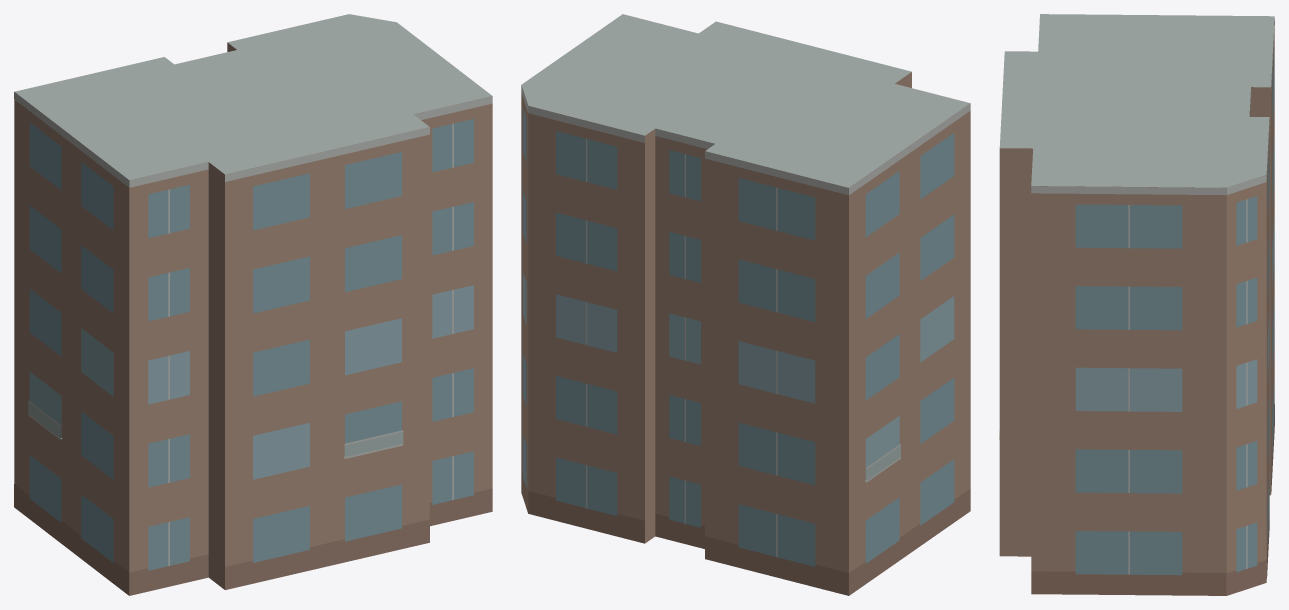
File: survey-upis-32736431.glb
The picture shows the model from 3 angles, left to right: view 1: azimuth 30°, elevation 25°; view 2: azimuth 150°, elevation 25°; view 3: azimuth 270°, elevation 25°; orthographic projection.
Parts seen in each view (by area): view 1: survey-upis-32736431.tmp; view 2: survey-upis-32736431.tmp; view 3: survey-upis-32736431.tmp.
Boxes of the visible parts, x1,y1,x2,y2 form: survey-upis-32736431.tmp: (14, 14, 492, 595); survey-upis-32736431.tmp: (521, 14, 970, 595); survey-upis-32736431.tmp: (999, 14, 1274, 595).
Size of the model in its own units: 12.24 by 13.4 by 8.21.
